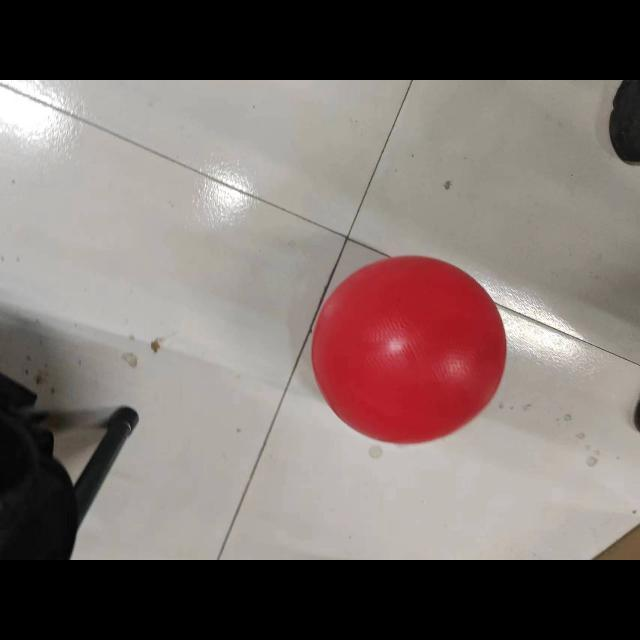R: (310, 252, 510, 446)
